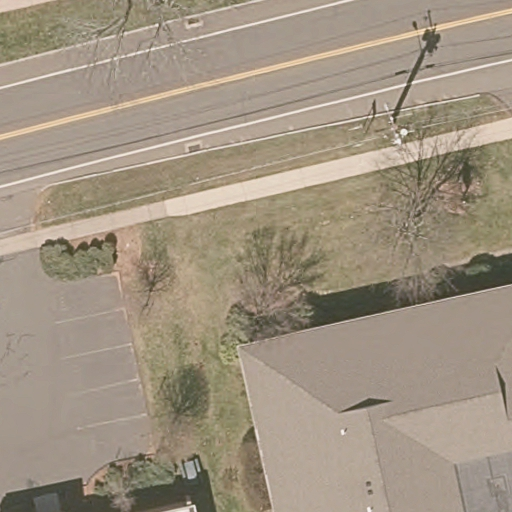DT: (364, 102, 420, 147)
